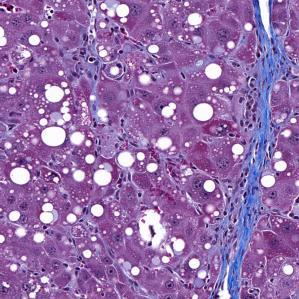fibrosis: (232, 37, 289, 151), (224, 195, 260, 279)
